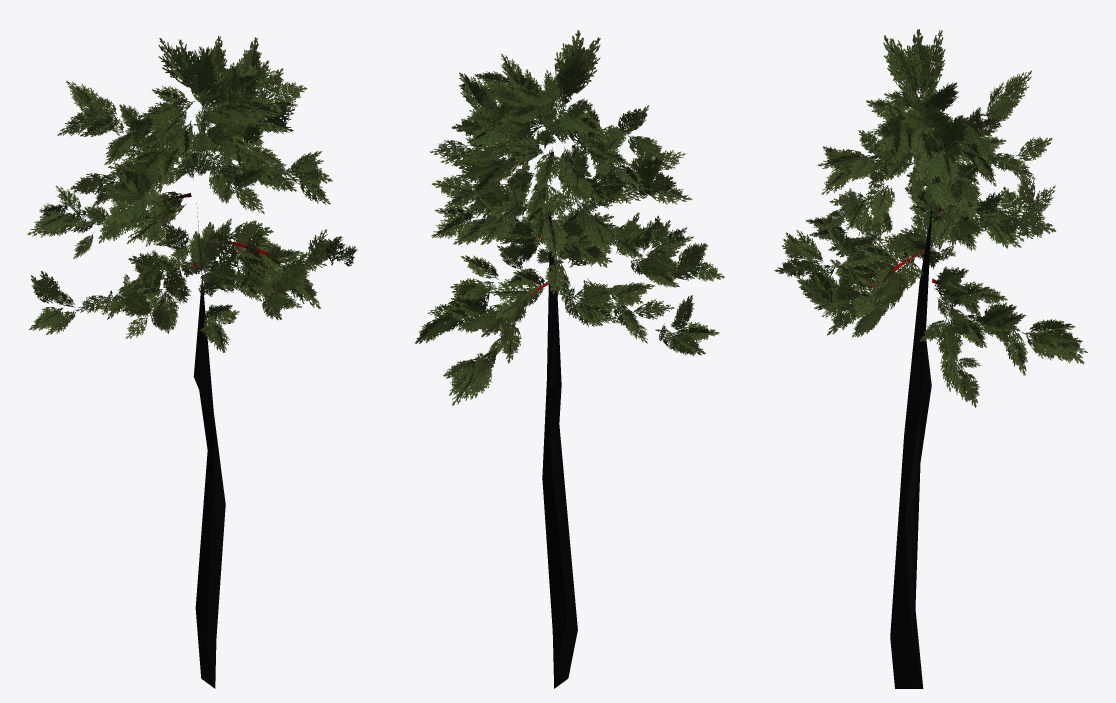
File: pine1 lod2.FBX
The picture shows the model from 3 angles, left to right: view 1: azimuth 30°, elevation 25°; view 2: azimuth 150°, elevation 25°; view 3: azimuth 270°, elevation 25°; orthographic projection.
Visible parts, largest first — view 1: pine002_LOD2; view 2: pine002_LOD2; view 3: pine002_LOD2.
Part boxes in pixels (bbox=[...]): pine002_LOD2: bbox=[27, 36, 357, 688]; pine002_LOD2: bbox=[415, 30, 724, 688]; pine002_LOD2: bbox=[774, 29, 1087, 688].
Size of the model in its own units: 123763 by 259174 by 119641.
